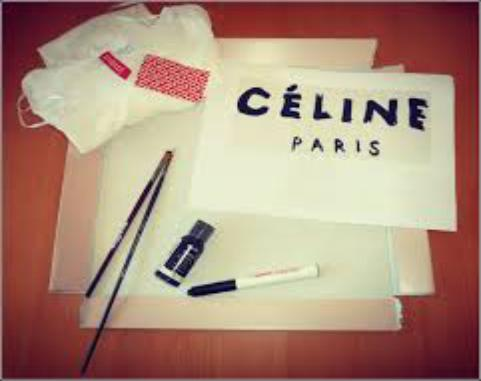CELINE: (235, 76, 435, 136)
